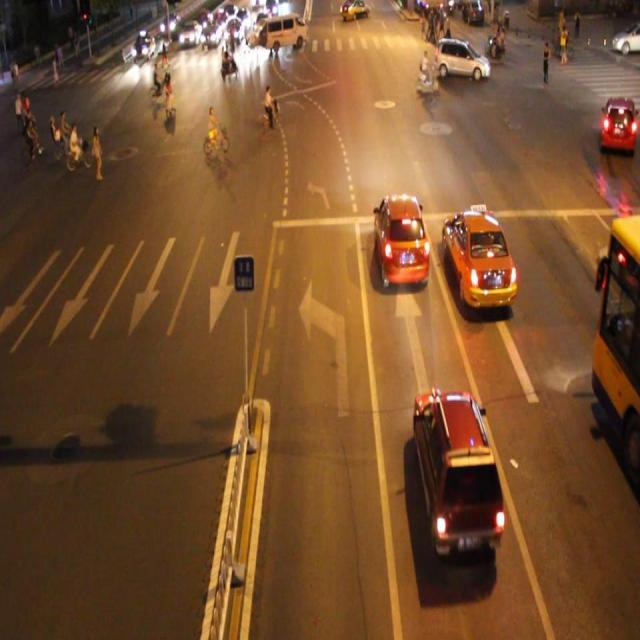car: (413, 388, 501, 557), (440, 204, 518, 308), (373, 192, 429, 288)
truck: (434, 38, 488, 81), (265, 14, 306, 50)
van: (590, 217, 640, 483)
